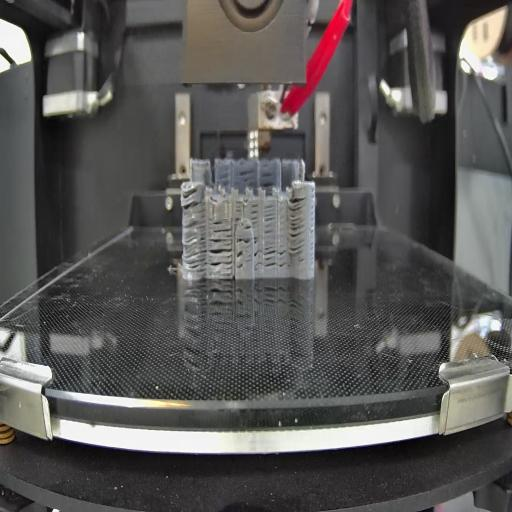cracks: (183, 218, 208, 274), (288, 195, 304, 257), (207, 237, 233, 272), (262, 242, 278, 270), (181, 188, 201, 210), (212, 217, 233, 237), (263, 205, 275, 233), (238, 170, 257, 186), (259, 172, 276, 188), (278, 244, 288, 270), (254, 237, 261, 271), (217, 172, 231, 186), (250, 203, 259, 224), (234, 199, 241, 222), (236, 250, 244, 270), (238, 235, 250, 245), (243, 226, 251, 232)
